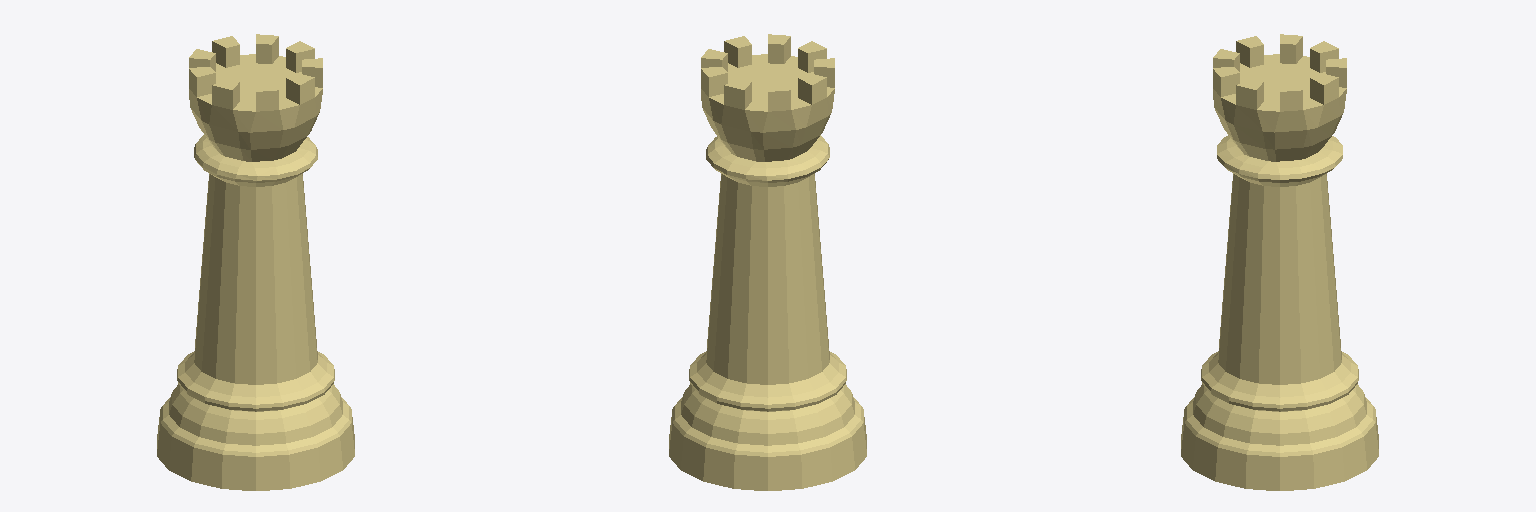
Rendered from Rook.obj.
3 renders of one model, left to right at view 1: azimuth 30°, elevation 25°; view 2: azimuth 150°, elevation 25°; view 3: azimuth 270°, elevation 25°, orthographic.
Parts seen in each view (by area): view 1: Rook; view 2: Rook; view 3: Rook.
Part boxes in pixels (x1,y1,x2,y2): Rook: (157, 34, 354, 490); Rook: (669, 34, 866, 490); Rook: (1181, 34, 1378, 490).
Bounding box in the file's own units: 145 × 307 × 143.